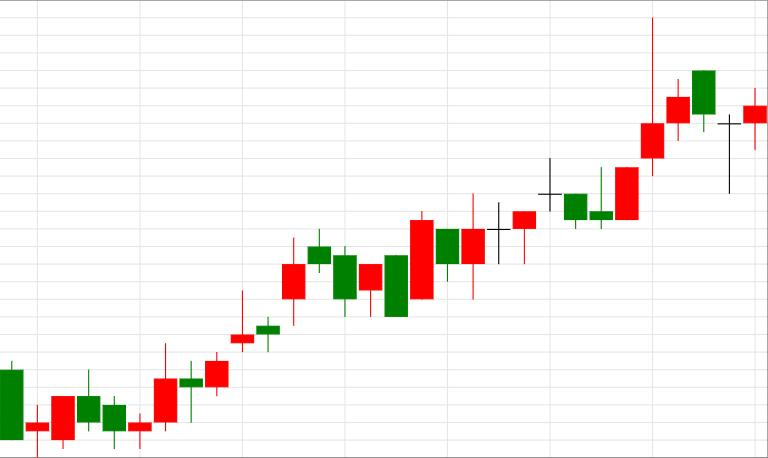evening_star_fall: (205, 229, 356, 398)
shooting_star_fall: (513, 17, 664, 264)
